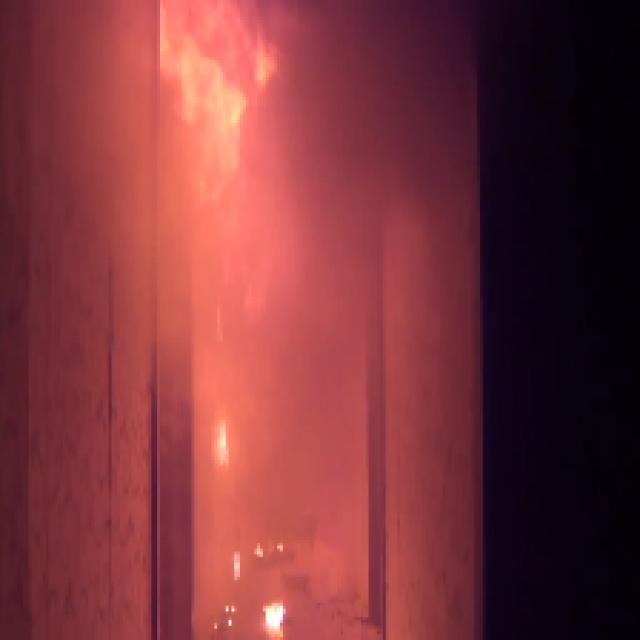Fire: (154, 6, 283, 174), (208, 411, 238, 463), (260, 594, 292, 632)
Smoke: (299, 8, 452, 185)
